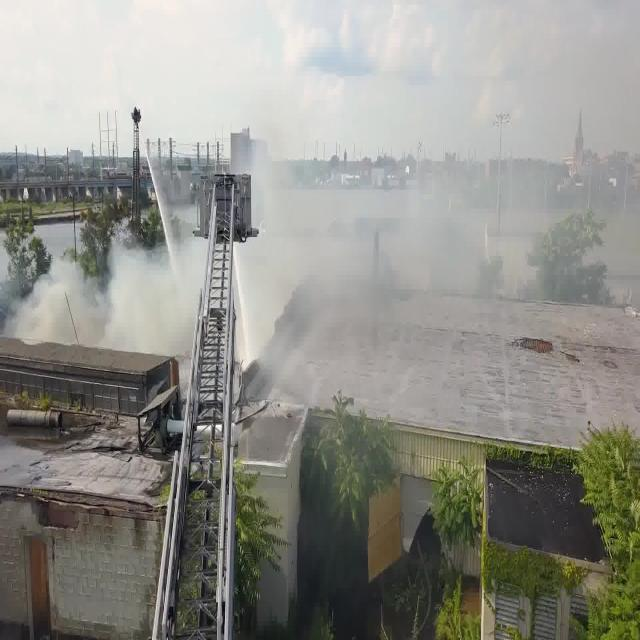Smoke: (12, 222, 516, 342)
